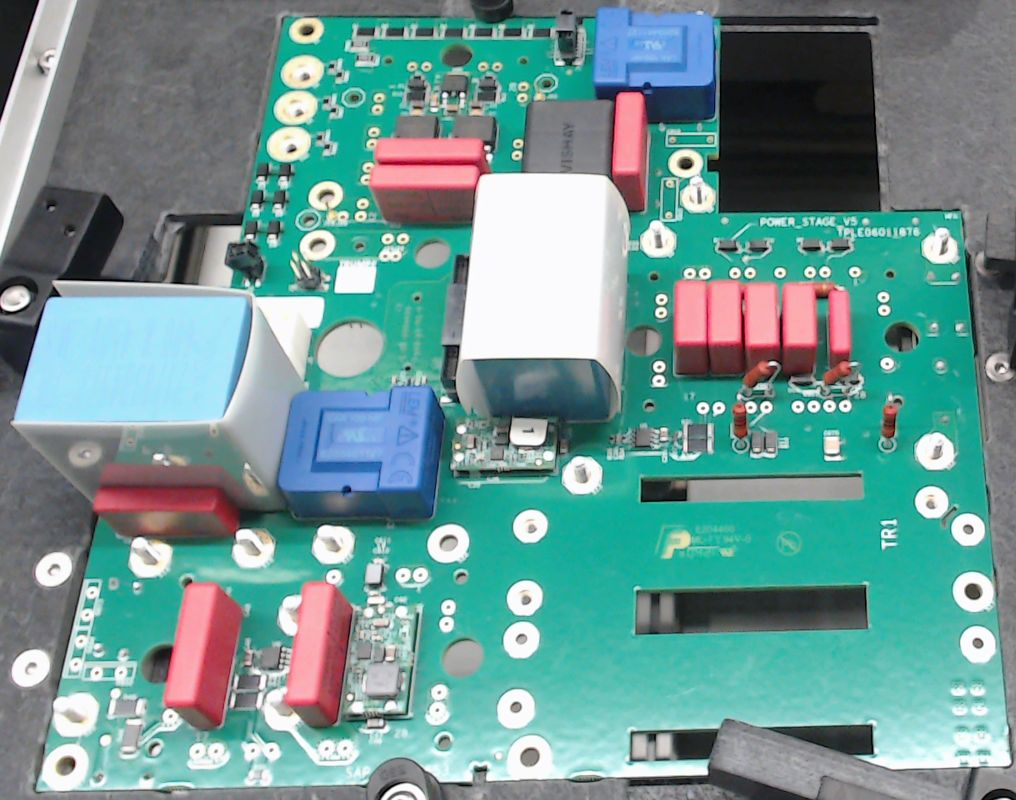comp1: (277, 385, 446, 521), (593, 8, 716, 121)
comp2: (165, 582, 243, 730), (286, 580, 354, 728), (91, 485, 242, 541), (369, 163, 479, 223), (610, 91, 647, 214), (741, 279, 782, 387), (671, 278, 708, 376), (709, 277, 744, 376), (373, 135, 485, 165), (781, 280, 815, 373), (828, 288, 852, 366)
comp3: (521, 99, 615, 178)
comp4: (12, 278, 306, 513), (457, 173, 628, 421)
